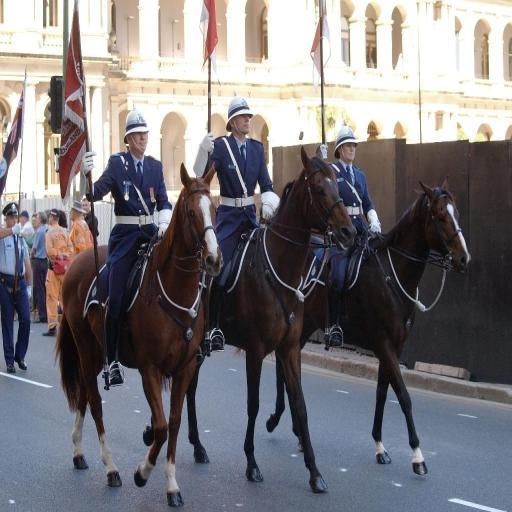horse: (140, 144, 358, 495), (230, 172, 472, 476), (52, 160, 224, 505)
